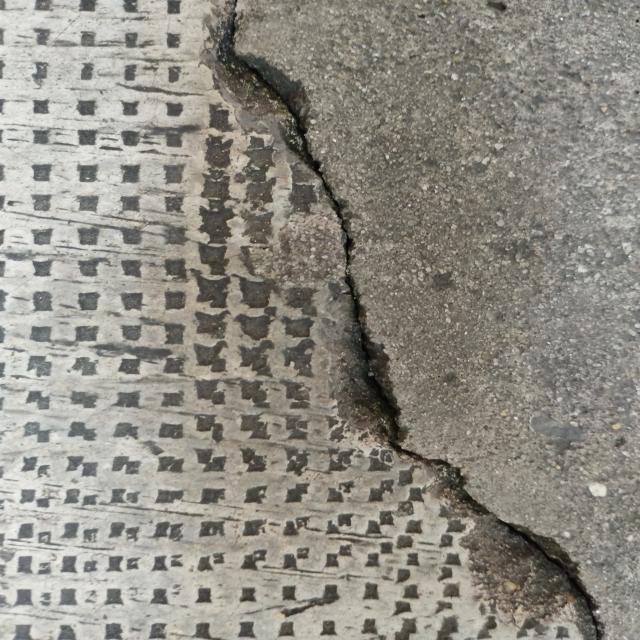diagonal crack: (211, 0, 601, 639)
